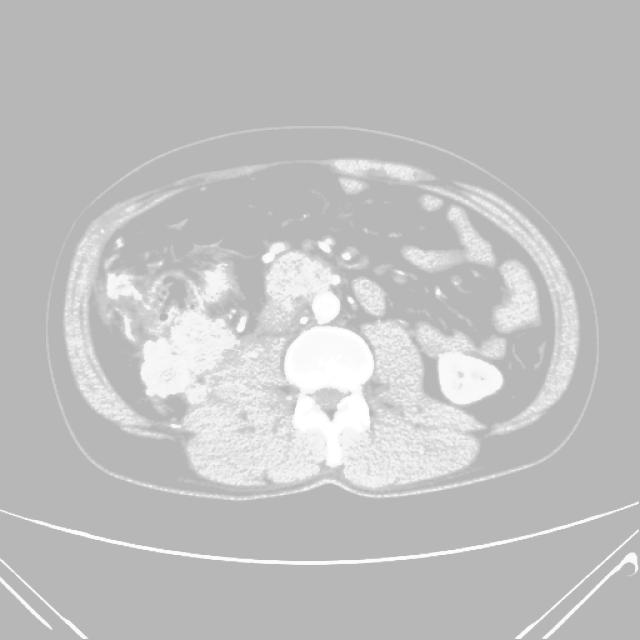TUMOR: (107, 177, 521, 446)
